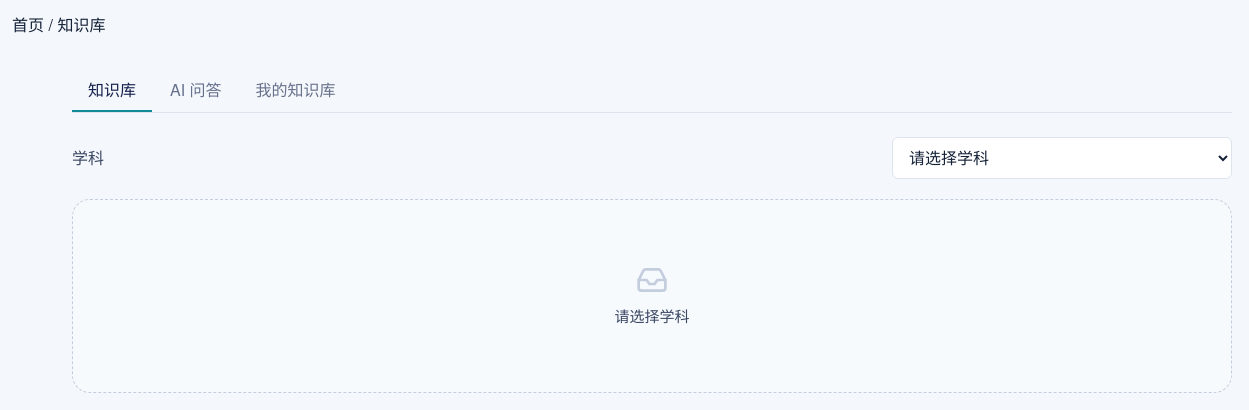
Scenario: KnowledgeView library reader flow › requires an explicit subject and never offers an all-subject reader
Select "组织学" in the dropdown with id "knowledge-subject". click: (1062,158)
box: 892,137 -> 1232,179
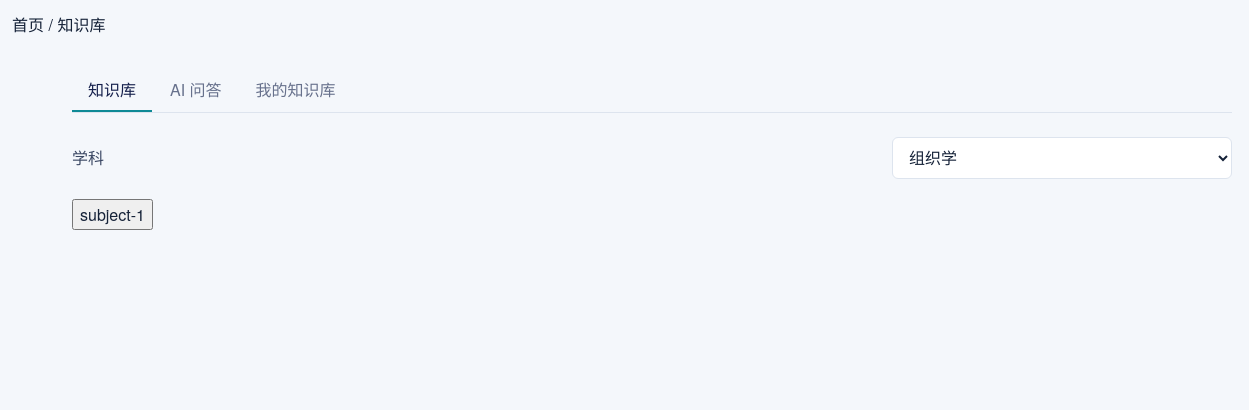
expect the button with class "directory-stub" reads "subject-1": met, box 72,199 -> 153,230
